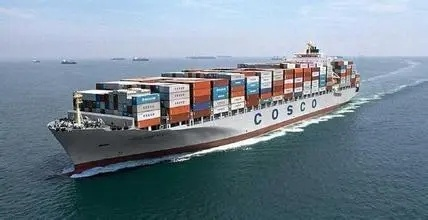Cargoship: (39, 38, 362, 177)
